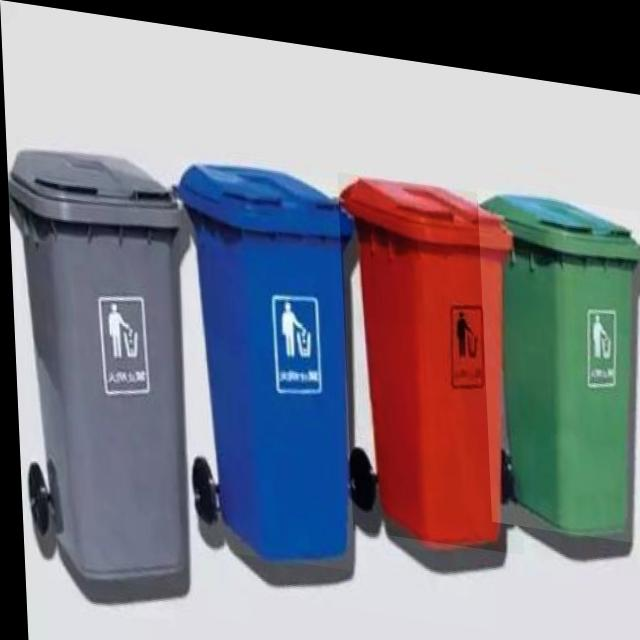garbage_bin: (5, 138, 204, 589), (175, 151, 363, 562), (336, 162, 520, 540), (476, 173, 640, 526)
